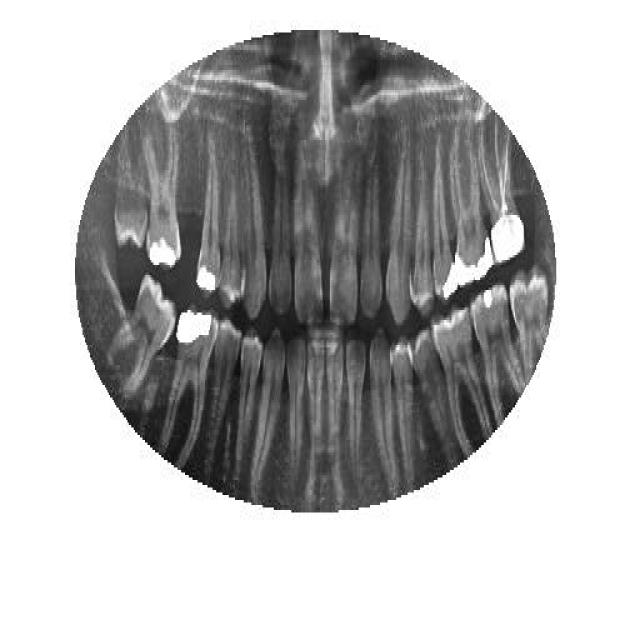Fillings: (160, 302, 219, 470), (470, 278, 525, 428), (448, 142, 494, 288), (140, 128, 182, 268), (432, 142, 458, 300), (196, 155, 222, 297)
Implant: (478, 115, 526, 267)
